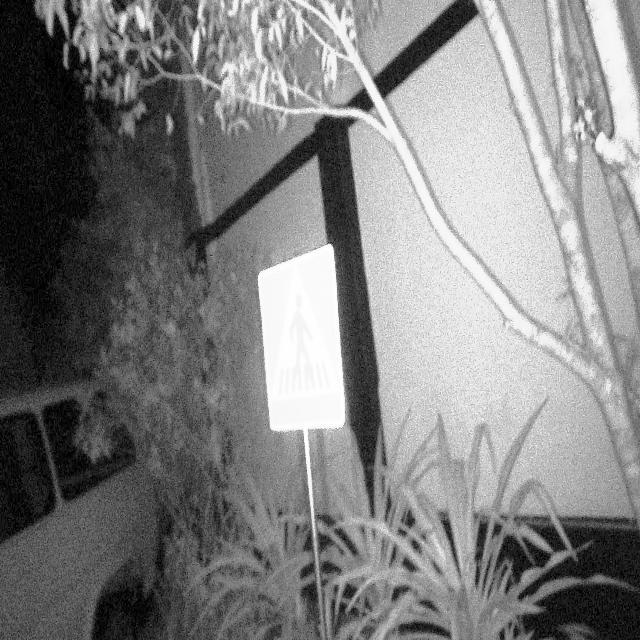Sign: (256, 242, 348, 435)
